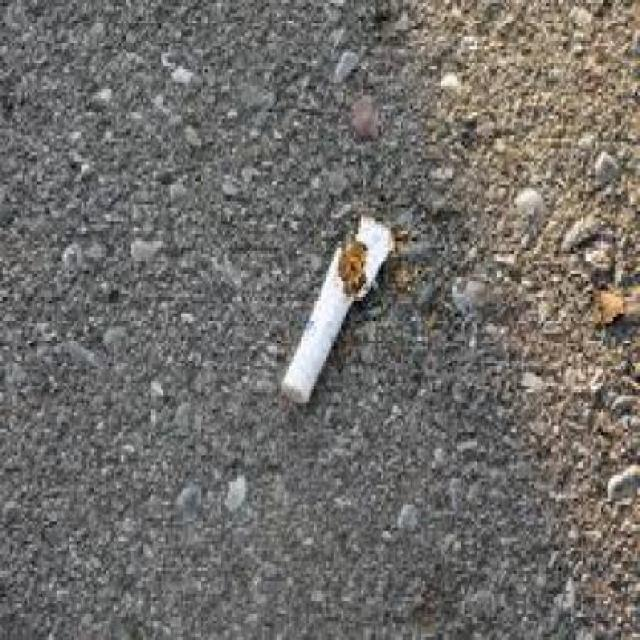cigarette: (269, 194, 400, 409)
